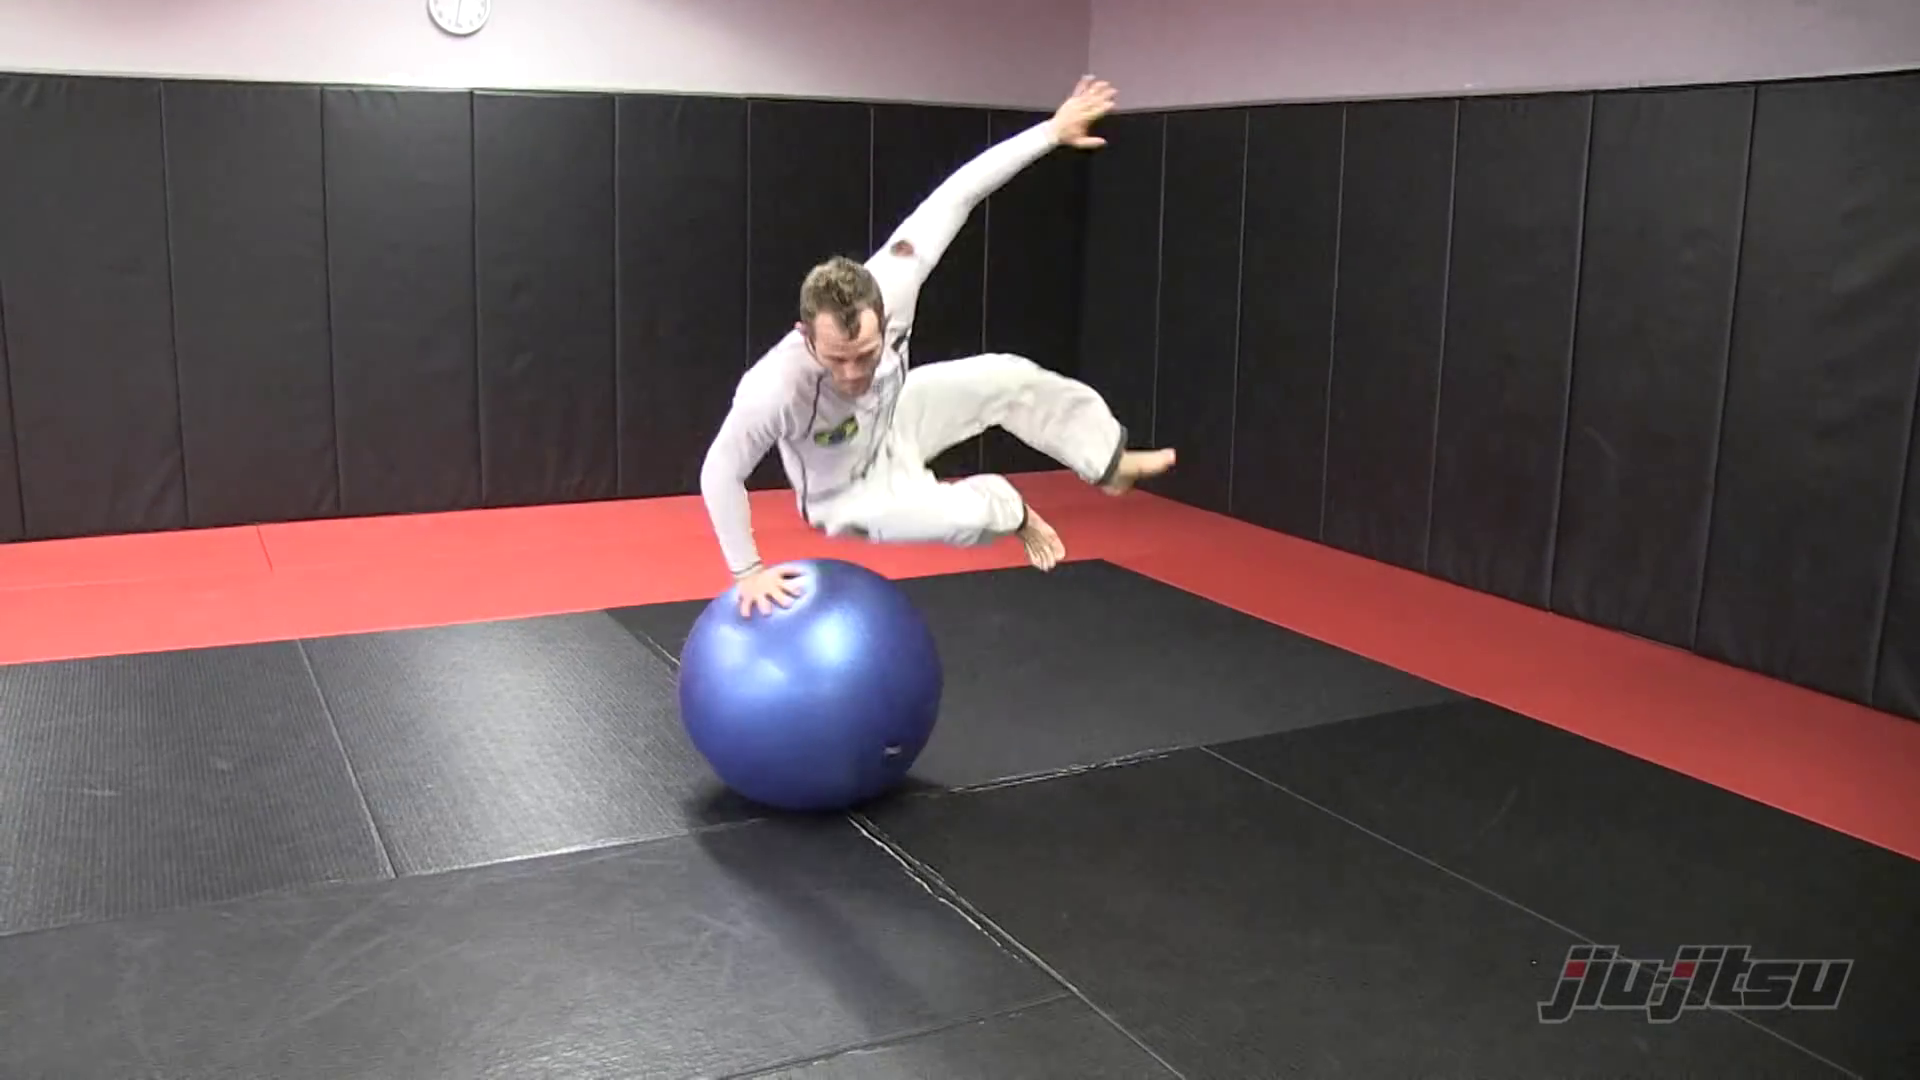yogaball: (659, 554, 960, 843)
